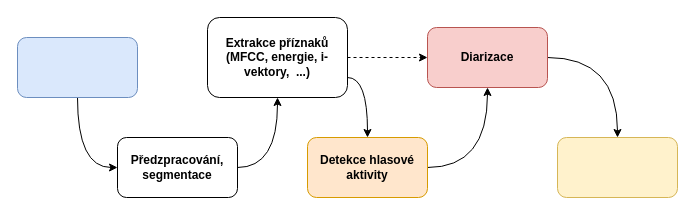
Some shapes in this 695 by 215 pixel diagram are drawn without their labels. Here are the shapes that lost their labels. From the top down, the centre of each, then its label:
At (x=77, y=67): "Vstupní signál".
At (x=617, y=167): "Výstup obsahující tvrdé/měkké rozhodnutí o řečové aktivitě mluvčích".
